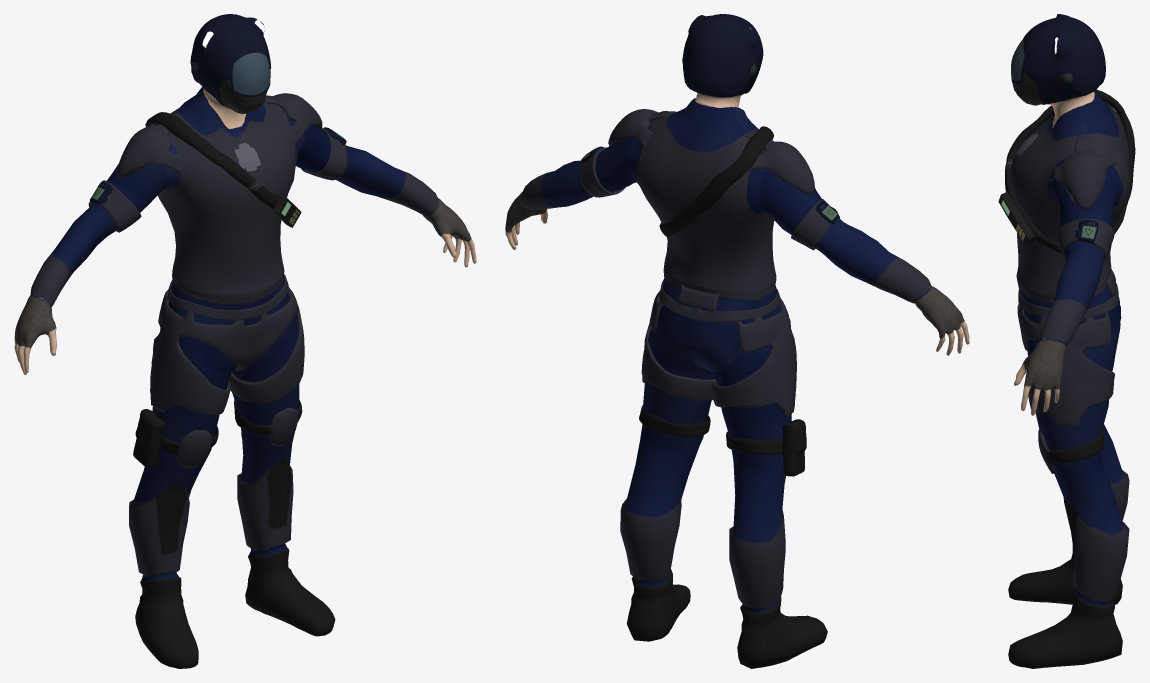
Rendered from sci_fi_soldier_light_infantry_low_poly_character.glb.
The picture shows the model from 3 angles, left to right: view 1: azimuth 30°, elevation 25°; view 2: azimuth 150°, elevation 25°; view 3: azimuth 270°, elevation 25°; orthographic projection.
Parts seen in each view (by area): view 1: Object_2, Object_6, Object_4, Object_3; view 2: Object_2, Object_6, Object_4, Object_3; view 3: Object_2, Object_6, Object_4, Object_5.
Boxes of the visible parts, <box> form: Object_2: <box>14,14,476,668</box>; Object_6: <box>88,93,347,468</box>; Object_4: <box>145,112,280,209</box>; Object_3: <box>133,409,165,467</box>; Object_2: <box>505,14,969,668</box>; Object_6: <box>580,109,839,454</box>; Object_4: <box>659,126,773,236</box>; Object_3: <box>782,419,806,476</box>; Object_2: <box>1008,14,1129,668</box>; Object_6: <box>1017,105,1118,473</box>; Object_4: <box>1005,89,1135,253</box>; Object_5: <box>998,192,1034,246</box>.
Size of the model in its own units: 153 by 200 by 40.71.
Materials: 5 (5 with a texture image).
